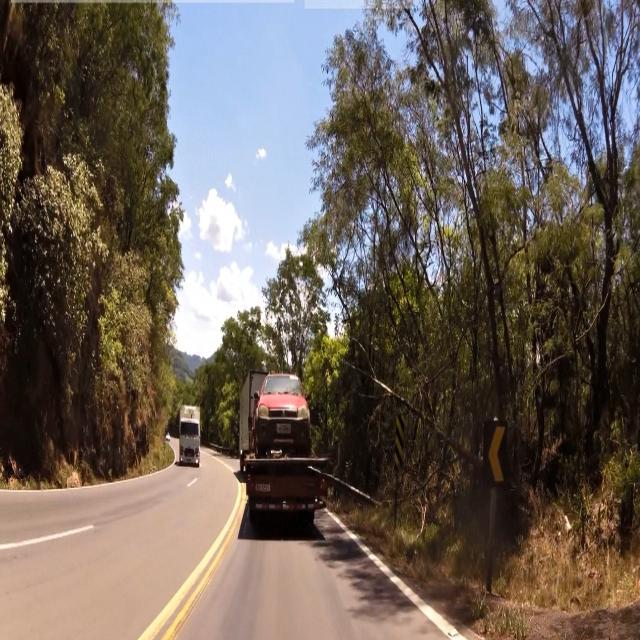Del: (485, 414, 509, 502)
